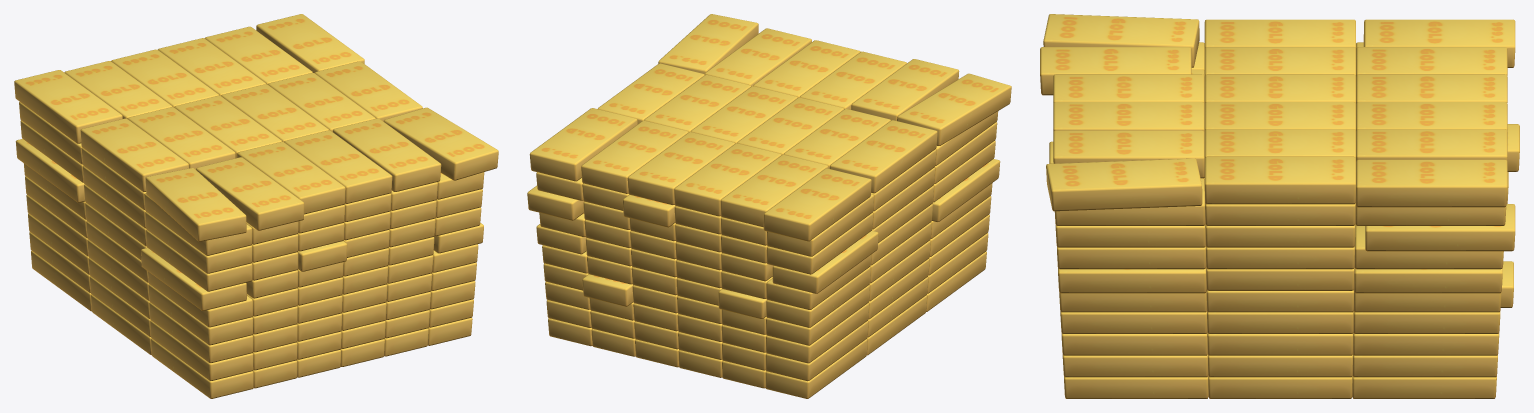
The model's file is BankGoldBars01_4.FBX.
3 renders of one model, left to right at view 1: azimuth 30°, elevation 25°; view 2: azimuth 150°, elevation 25°; view 3: azimuth 270°, elevation 25°, orthographic. The views are drawn at different scales.
Visible parts, largest first — view 1: BankGoldBars01_4; view 2: BankGoldBars01_4; view 3: BankGoldBars01_4.
Boxes of the visible parts, x1,y1,x2,y2 form: BankGoldBars01_4: (14, 14, 498, 398); BankGoldBars01_4: (527, 14, 1011, 398); BankGoldBars01_4: (1040, 14, 1519, 398).
Size of what is drawn, in the model's own units: 1.13 by 0.6605 by 1.29.
